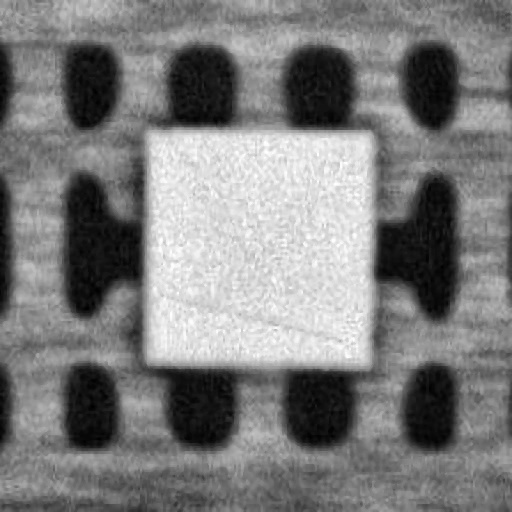DIE_CRACK: (236, 195, 507, 225)
